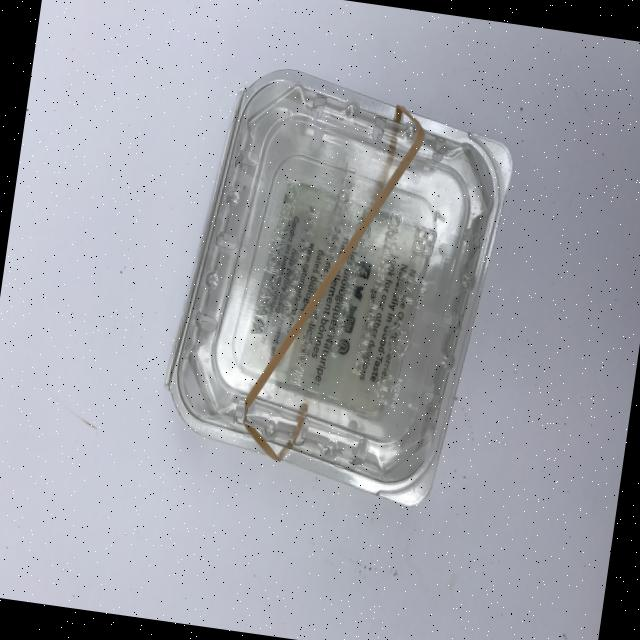plastic: (153, 58, 522, 514)
